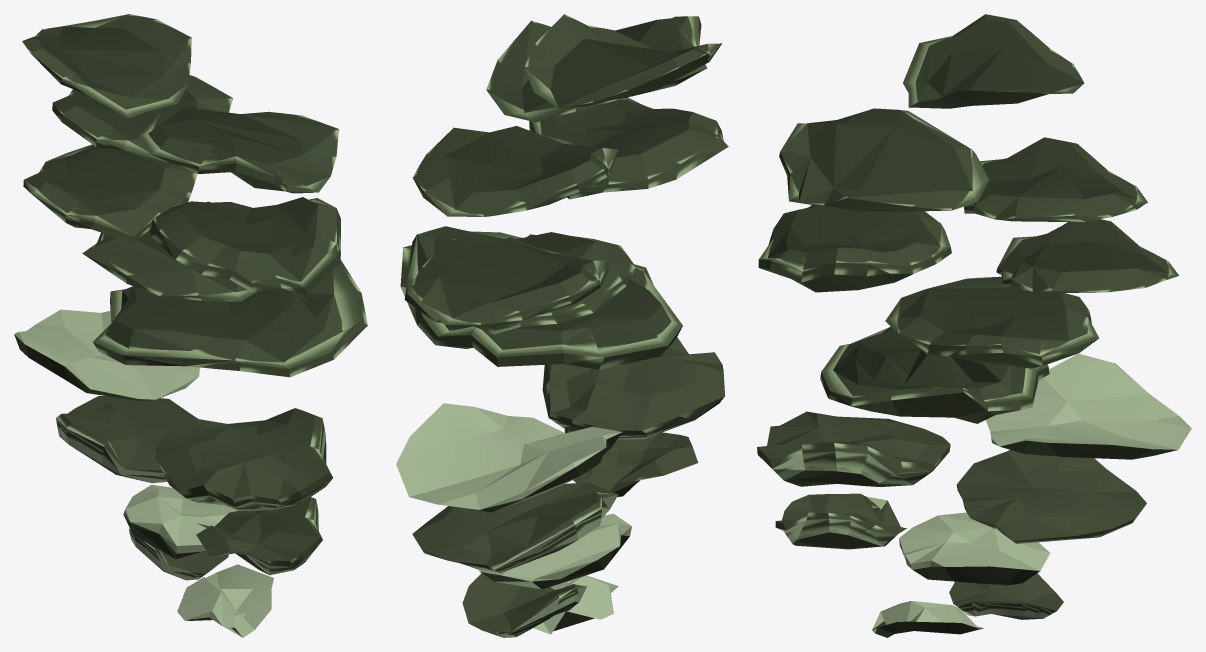
Rendered from EA_Swamp_Fungus_03c.glb.
The picture shows the model from 3 angles, left to right: view 1: azimuth 30°, elevation 25°; view 2: azimuth 150°, elevation 25°; view 3: azimuth 270°, elevation 25°; orthographic projection. The views are drawn at different scales.
Visible parts, largest first — view 1: EA_Swamp_Fungus_03c; view 2: EA_Swamp_Fungus_03c; view 3: EA_Swamp_Fungus_03c.
Boxes of the visible parts, x1=… form: EA_Swamp_Fungus_03c: x1=14, y1=14, x2=367, y2=637; EA_Swamp_Fungus_03c: x1=396, y1=14, x2=728, y2=637; EA_Swamp_Fungus_03c: x1=757, y1=14, x2=1191, y2=637.
Bounding box in the file's own units: 0.4872 × 0.927 × 0.6651.
Materials: 1 (1 with a texture image).
